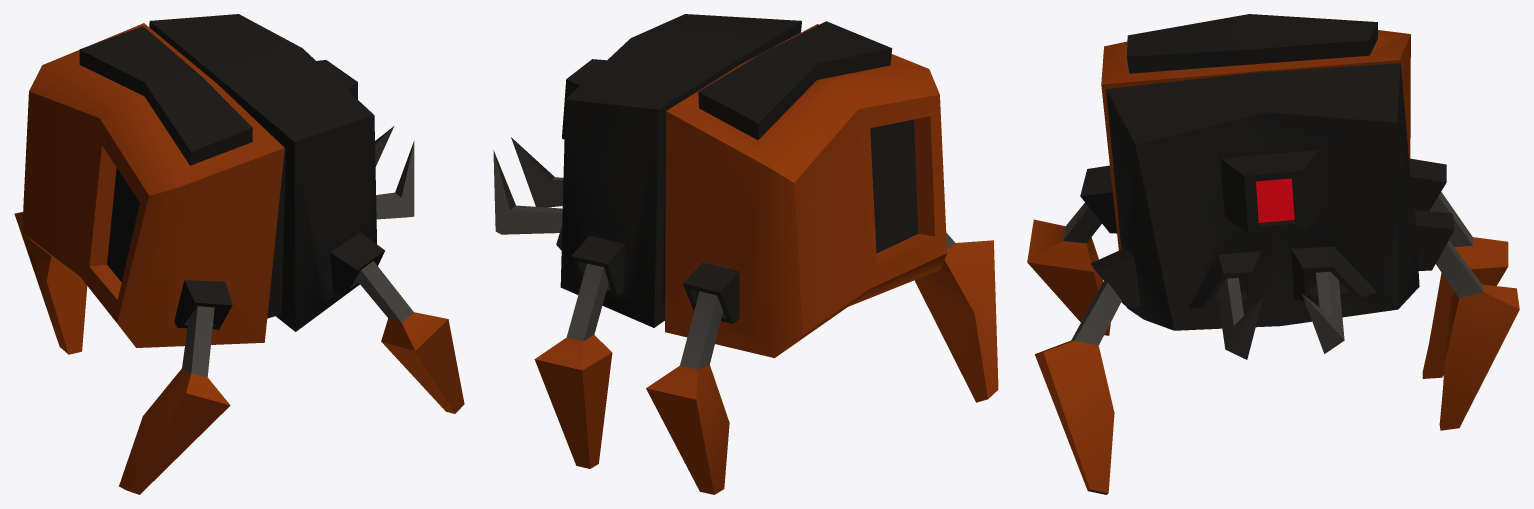
The model's file is SPIDBOT20.obj.
3 renders of one model, left to right at view 1: azimuth 30°, elevation 25°; view 2: azimuth 150°, elevation 25°; view 3: azimuth 270°, elevation 25°, orthographic. The views are drawn at different scales.
Visible parts, largest first — view 1: Cube.001; view 2: Cube.001; view 3: Cube.001.
Boxes of the visible parts, left/top/right/bottom form: Cube.001: left=14, top=14, right=464, bottom=494; Cube.001: left=493, top=14, right=998, bottom=494; Cube.001: left=1027, top=14, right=1519, bottom=494.
Size of what is drawn, in the model's own units: 3.15 by 2.8 by 3.43.
